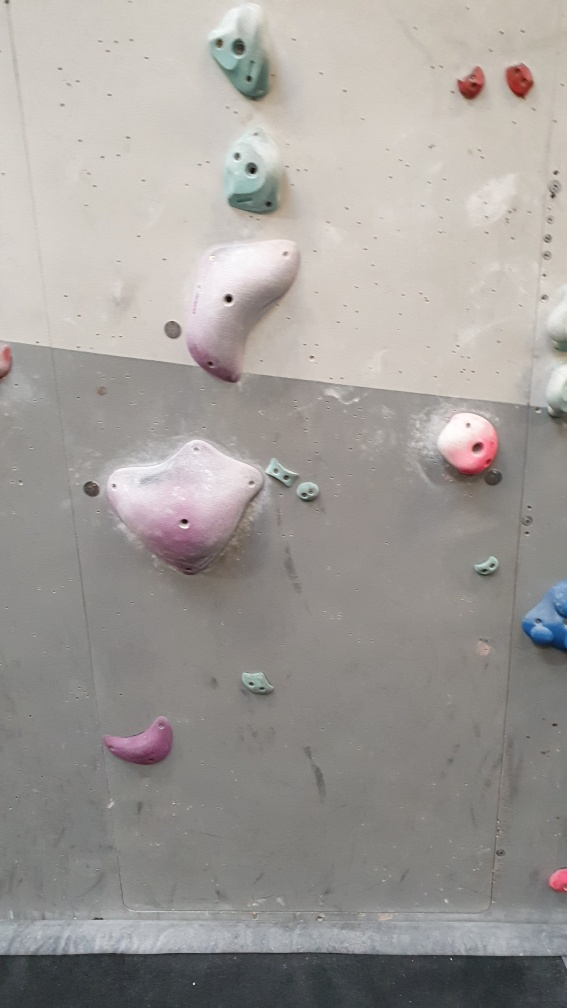Hand Start: (78, 476, 103, 504), (163, 317, 184, 341), (487, 467, 509, 489)
Jug: (206, 1, 280, 104), (218, 122, 285, 219)
Pinch: (264, 456, 299, 490)
Sloper: (522, 577, 567, 665)
